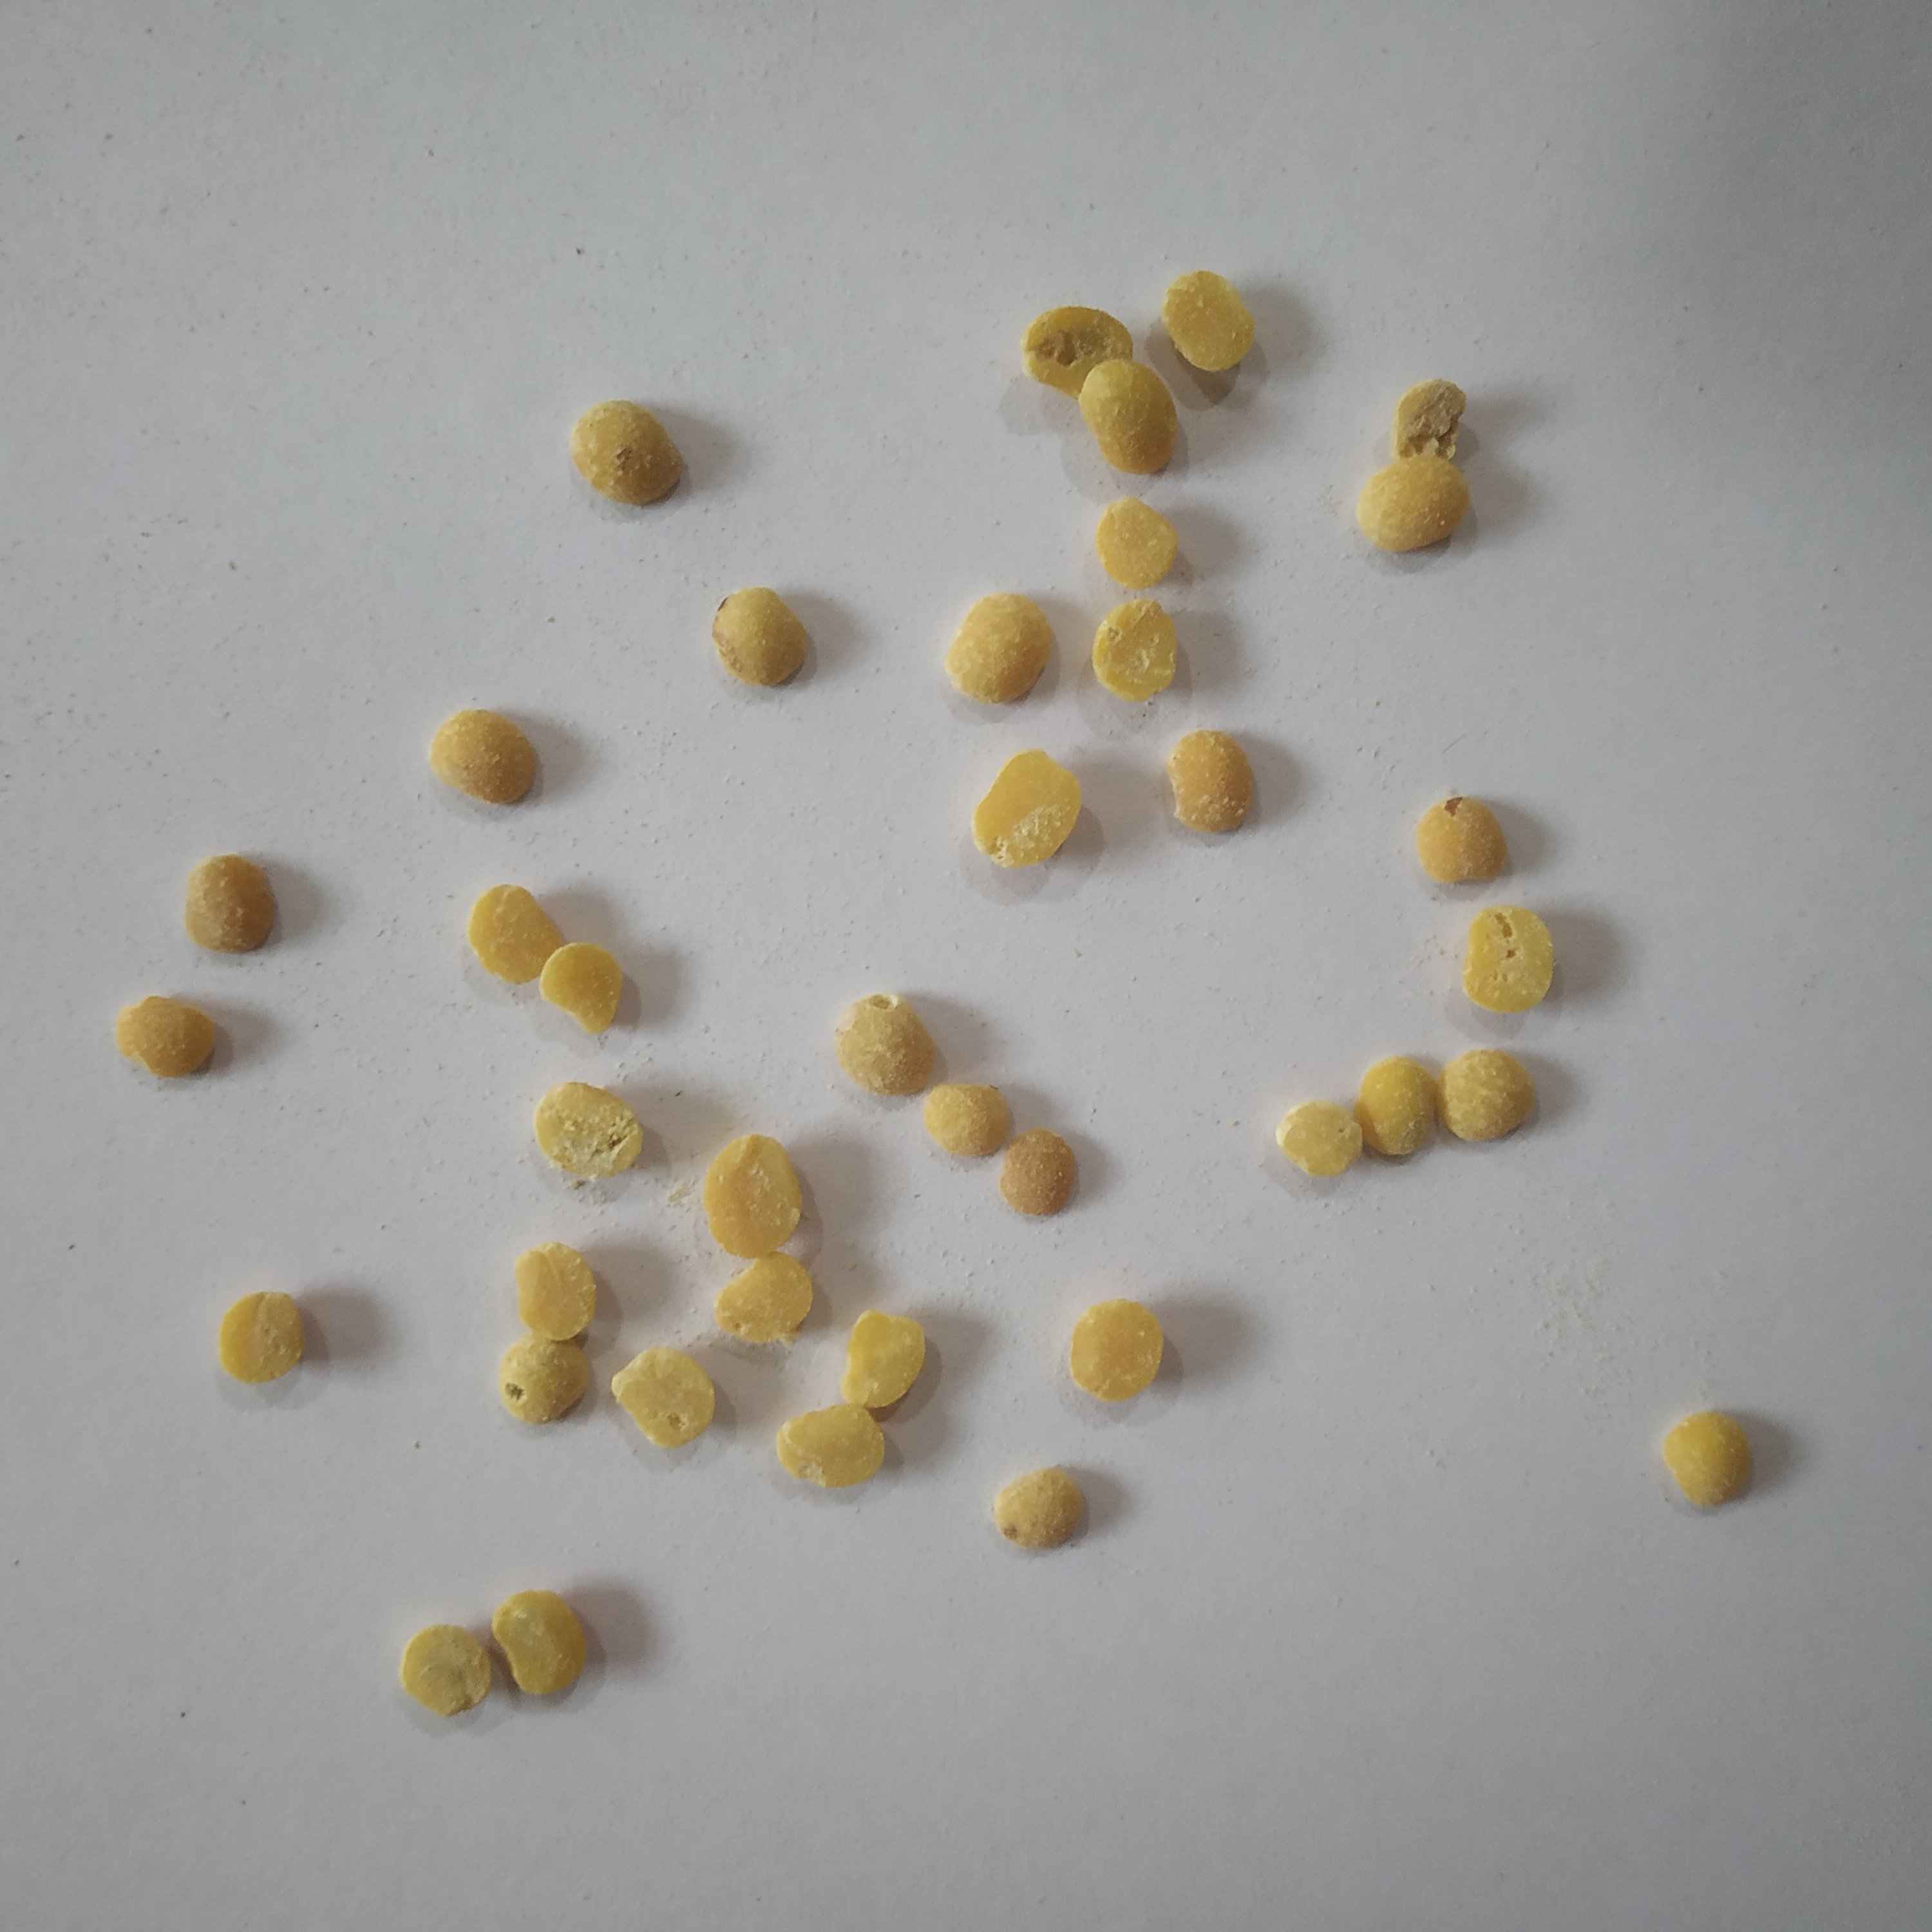Broken Toor Dal: (534, 939, 626, 1037)
Fungal Infected Toor Dal: (1412, 793, 1507, 888)
Good Toor Dal: (966, 747, 1085, 869), (566, 393, 685, 513), (699, 1131, 807, 1260), (938, 587, 1051, 706), (1074, 357, 1180, 478), (421, 706, 540, 809), (1352, 455, 1472, 554), (488, 1585, 589, 1702), (708, 582, 814, 690), (1067, 1293, 1168, 1405), (771, 1399, 890, 1491), (1656, 1405, 1757, 1513), (464, 881, 564, 989), (1430, 1046, 1537, 1146), (180, 847, 278, 959), (1157, 269, 1258, 375), (1086, 593, 1178, 708), (1162, 727, 1258, 837), (395, 1621, 499, 1720), (835, 1306, 929, 1414), (111, 989, 219, 1081), (212, 1288, 308, 1387), (511, 1240, 602, 1345), (1350, 1056, 1440, 1161), (989, 1463, 1086, 1553), (1092, 495, 1180, 593), (920, 1077, 1014, 1162), (996, 1127, 1079, 1223), (1272, 1097, 1366, 1180)
Infested Toor Dal: (607, 1339, 718, 1454), (529, 1076, 649, 1180), (1456, 897, 1559, 1016), (828, 991, 938, 1100), (1017, 303, 1136, 403), (708, 1247, 817, 1346), (492, 1323, 593, 1430), (1391, 373, 1470, 464)
